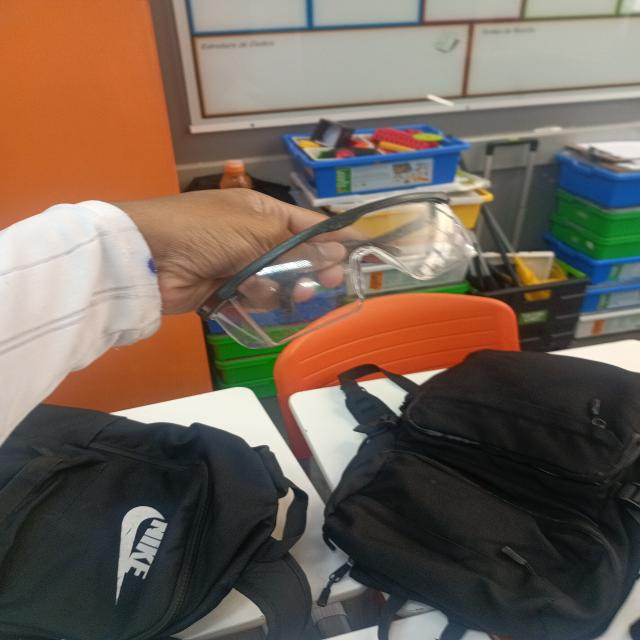oculos-epi: (200, 193, 475, 348)
